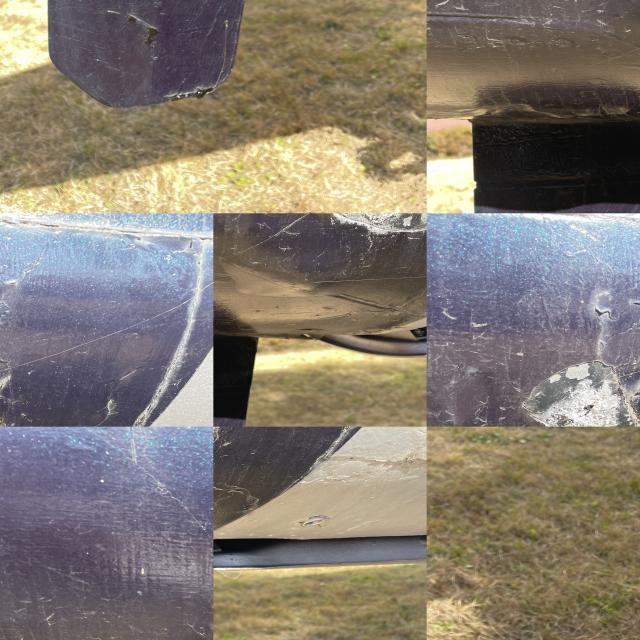crack: (0, 253, 38, 287), (590, 304, 619, 324)
dent: (216, 262, 354, 335), (521, 362, 640, 425)
